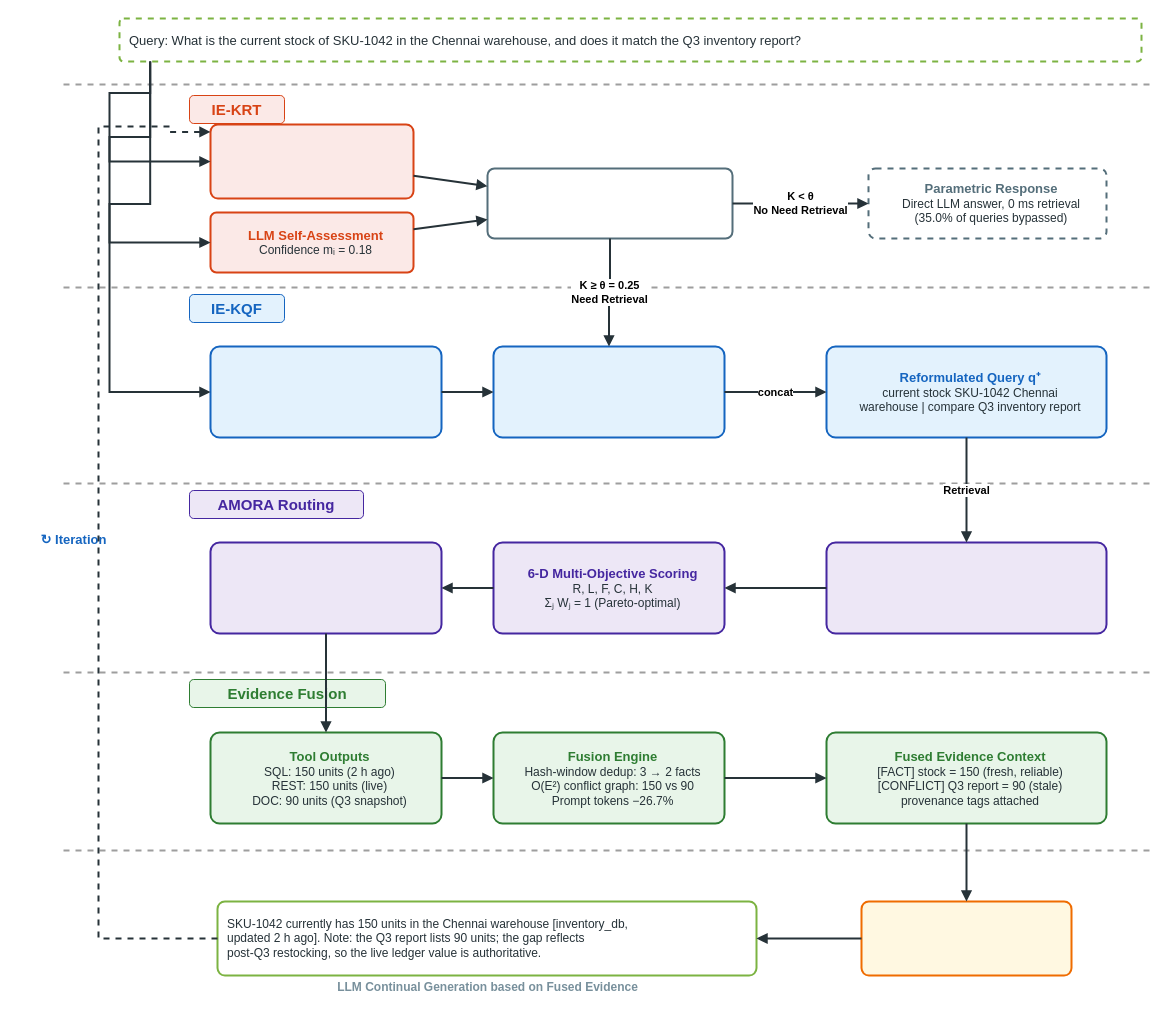
This 1174x1018 diagram has some shape labels left out. The shapes that lost their labels are listed below. From the top down, each one's centre as x and y in pixels, then its label:
At point 311,161: "Evaluator Complexity E = 0.72 Sensitivity Sᵢ = 0.76".
At point 609,203: "Activation Score K(tᵢ) = (E − mᵢ) · Sᵢ = 0.41".
At point 325,391: "Internal Phrases (LLM) SKU-1042, Chennai warehouse, Q3 inventory report".
At point 608,391: "Intent Tokens live stock lookup + cross-source verification".
At point 325,587: "Top-K Selected Tools inventory_db (SQL) stock_api (REST), q3_report (DOC)".
At point 966,587: "Two-Stage FAISS Funnel N = 10,000 → M = 55 candidates 3.26 ms | SRR = 99.45%".
At point 966,938: "Local LLM Qwen 2.5 7B (Q4_K_M) zero data egress".
